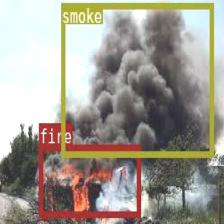fire: (38, 144, 140, 216)
smoke: (60, 2, 212, 156)
